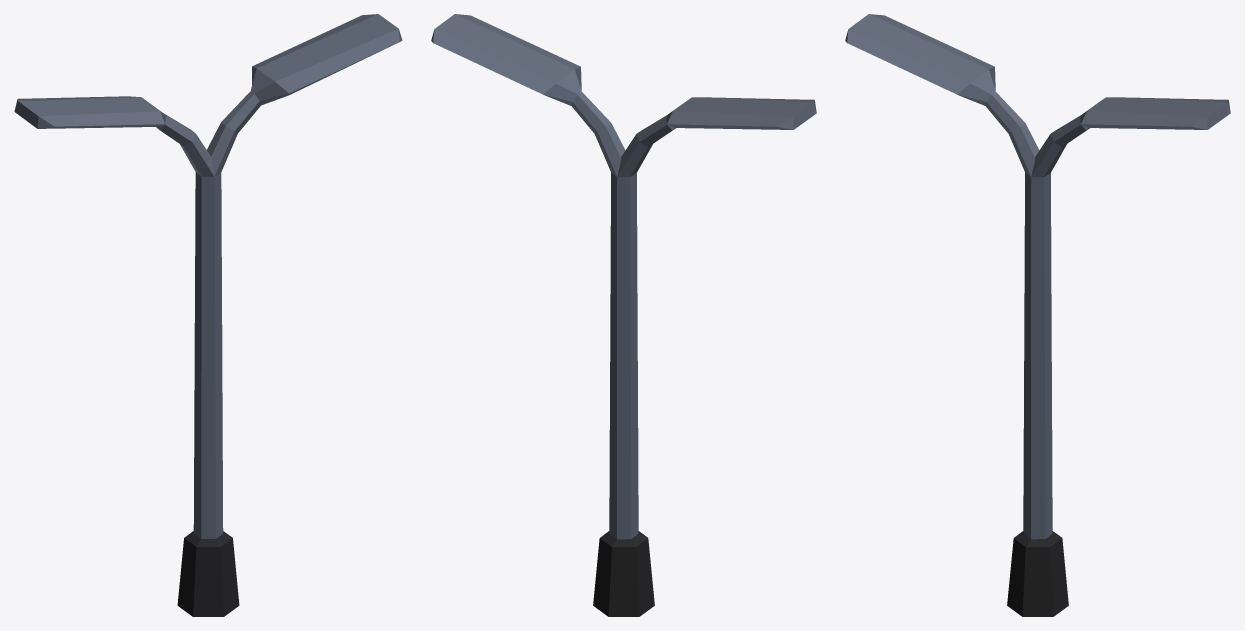
Rendered from Lantern 2.fbx.
The picture shows the model from 3 angles, left to right: view 1: azimuth 30°, elevation 25°; view 2: azimuth 150°, elevation 25°; view 3: azimuth 330°, elevation 25°; orthographic projection.
Visible parts, largest first — view 1: Lantern_02; view 2: Lantern_02; view 3: Lantern_02.
Part boxes in pixels (x1,y1,x2,y2): Lantern_02: (14, 14, 402, 616); Lantern_02: (431, 14, 816, 616); Lantern_02: (845, 14, 1230, 616).
Bounding box in the file's own units: 146 × 207 × 26.09.
